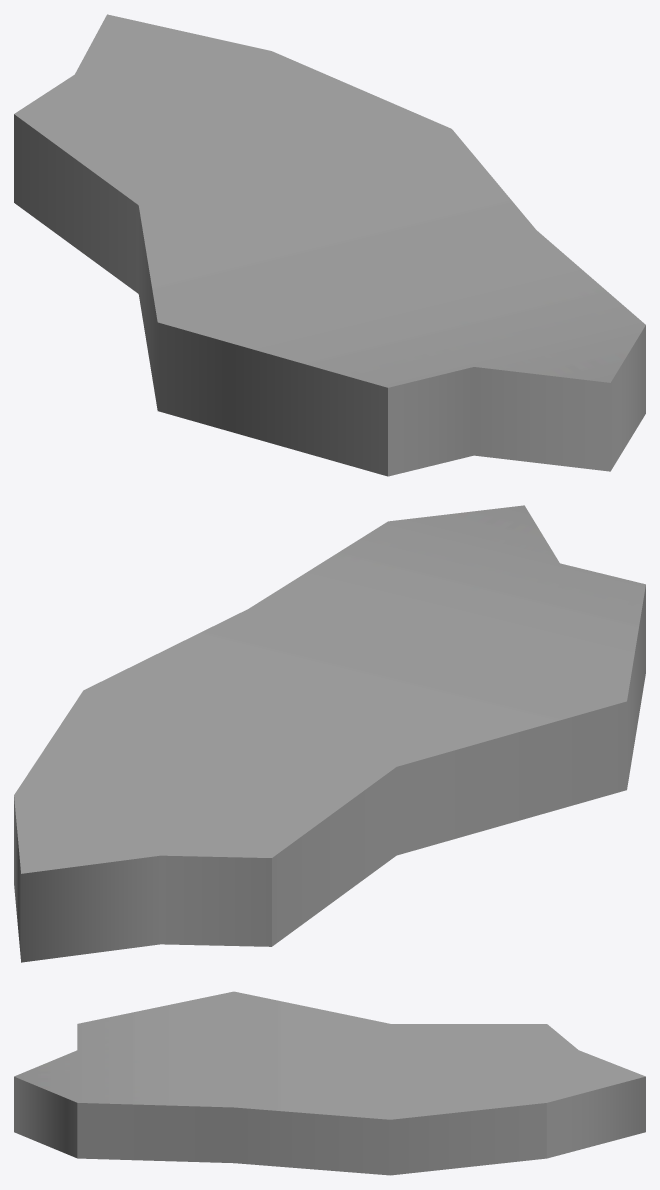
Rendered from Rock 35.FBX.
3 views of the same model, one above another, from view 1: azimuth 30°, elevation 25°; view 2: azimuth 150°, elevation 25°; view 3: azimuth 270°, elevation 25° (orthographic). The views are drawn at different scales.
Parts seen in each view (by area): view 1: Box001; view 2: Box001; view 3: Box001.
Part boxes in pixels (left/top/right/bottom): Box001: left=14, top=14, right=645, bottom=476; Box001: left=14, top=505, right=645, bottom=962; Box001: left=14, top=991, right=645, bottom=1175.
Size of the model in its own units: 24.02 by 4.86 by 50.01.
